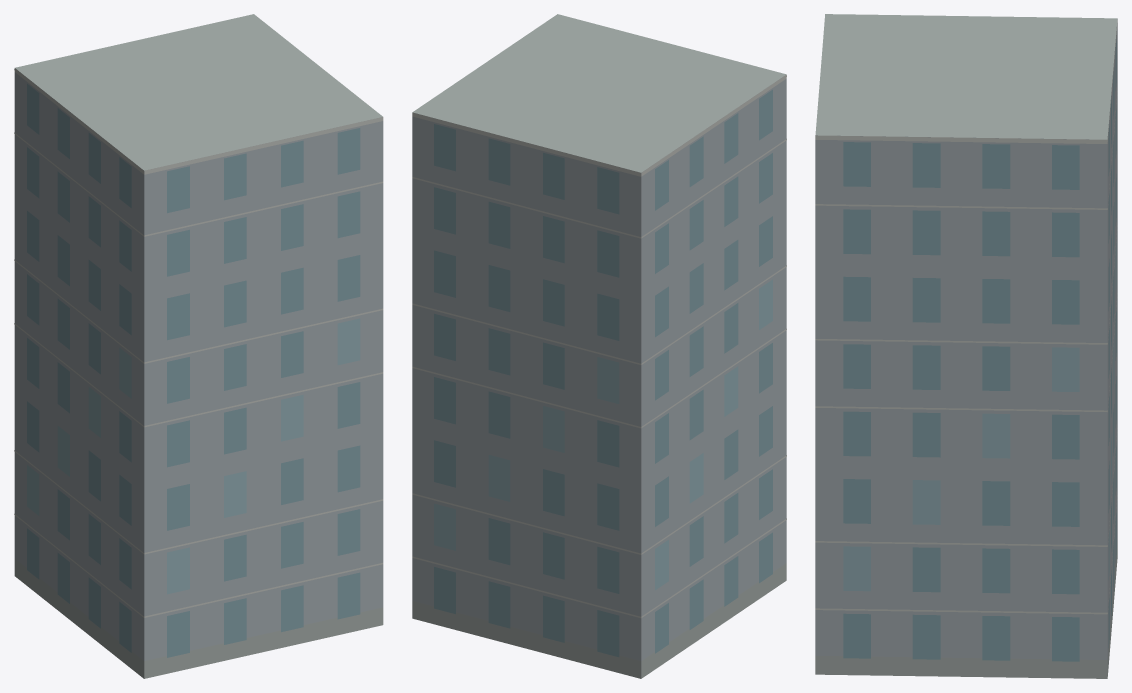
The model's file is survey-upis-32763982.glb.
3 renders of one model, left to right at view 1: azimuth 30°, elevation 25°; view 2: azimuth 150°, elevation 25°; view 3: azimuth 270°, elevation 25°, orthographic. The views are drawn at different scales.
Visible parts, largest first — view 1: survey-upis-32763982.tmp; view 2: survey-upis-32763982.tmp; view 3: survey-upis-32763982.tmp.
Boxes of the visible parts, bbox=[...] form: survey-upis-32763982.tmp: bbox=[14, 14, 383, 678]; survey-upis-32763982.tmp: bbox=[412, 14, 786, 678]; survey-upis-32763982.tmp: bbox=[815, 14, 1117, 678].
Bounding box in the file's own units: 14.98 × 29.9 × 15.21.
